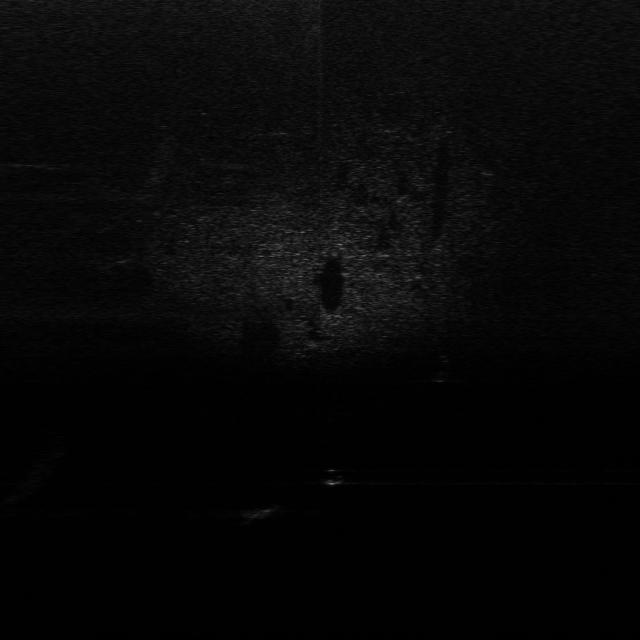ball: (320, 464, 348, 490)
square cage: (243, 502, 284, 522)
tyre: (428, 353, 457, 384)
